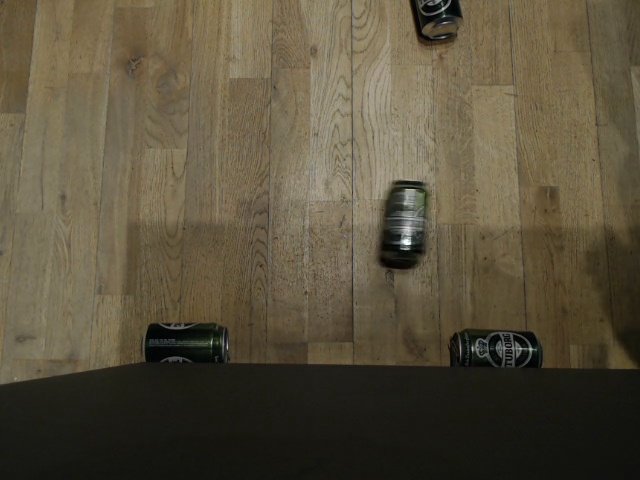beer: (137, 318, 232, 363), (383, 177, 428, 268), (449, 325, 542, 366), (410, 1, 461, 39)
